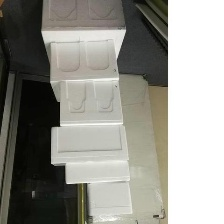foam_box: (37, 0, 128, 64), (45, 37, 122, 106), (46, 122, 131, 169), (54, 77, 126, 128), (61, 157, 133, 186), (83, 178, 134, 218)
